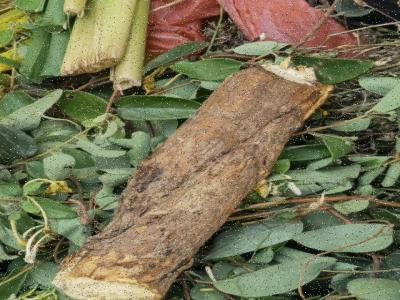Root: (54, 66, 332, 300)
